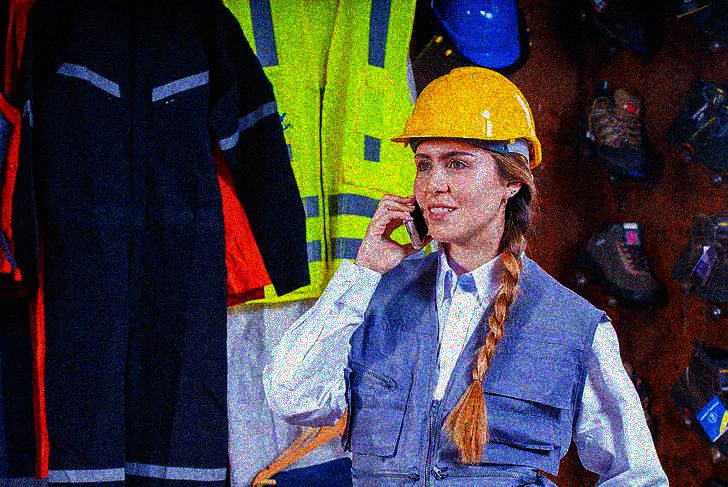helmet: (390, 64, 542, 240)
